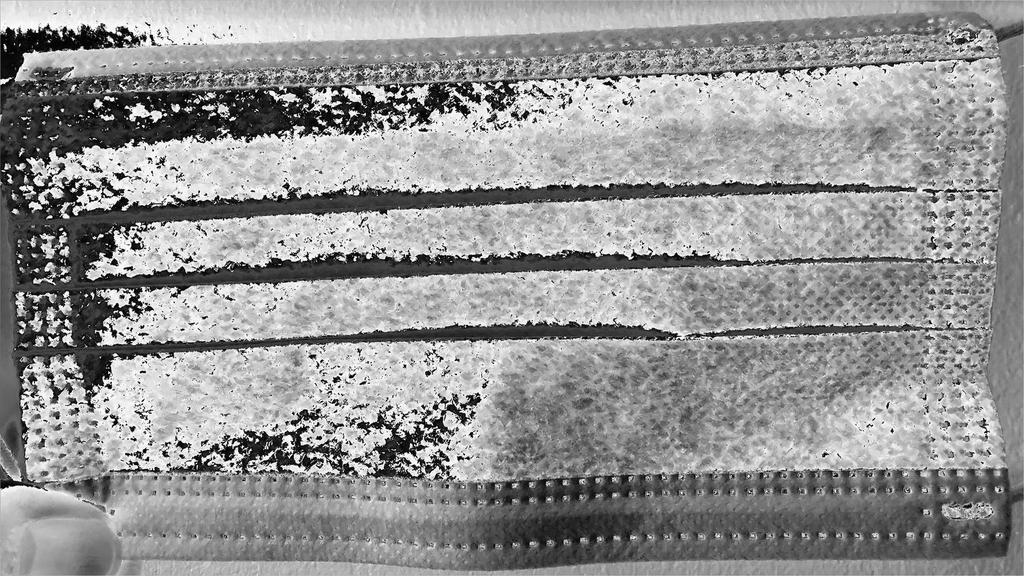High GSM: (2, 8, 1012, 486)
